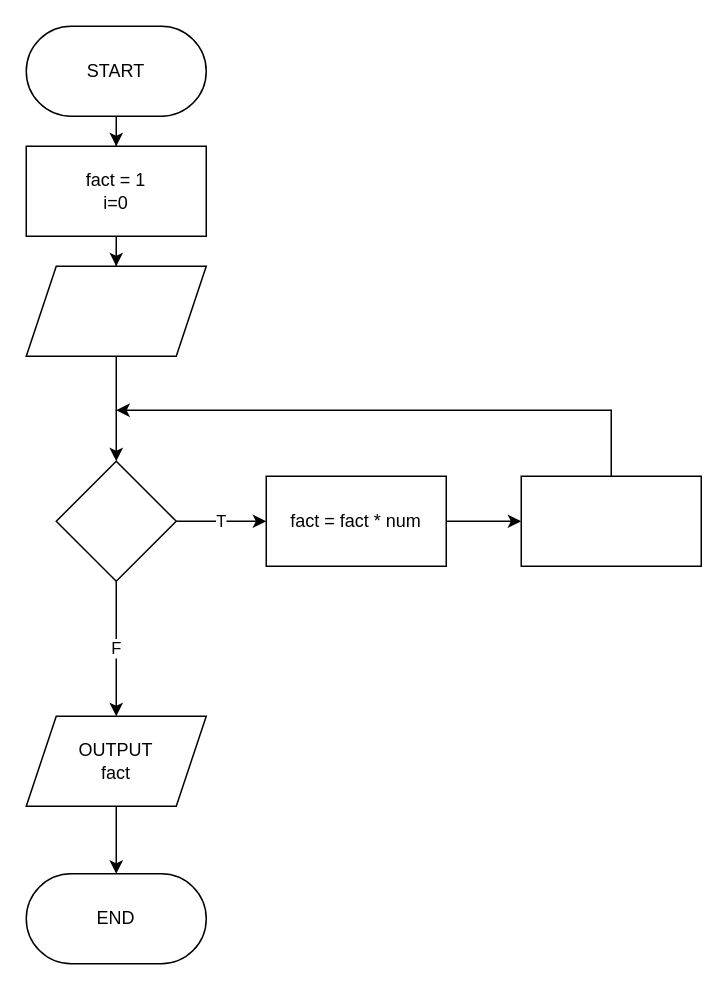
Some shapes in this 728 by 990 pixel diagram are drawn without their labels. The box of each missing label's shape, as (x1, y1, x2, y2) in pixels:
i++: (520, 475, 701, 566)
i<num: (55, 460, 176, 581)
INPUT num: (25, 265, 206, 356)
